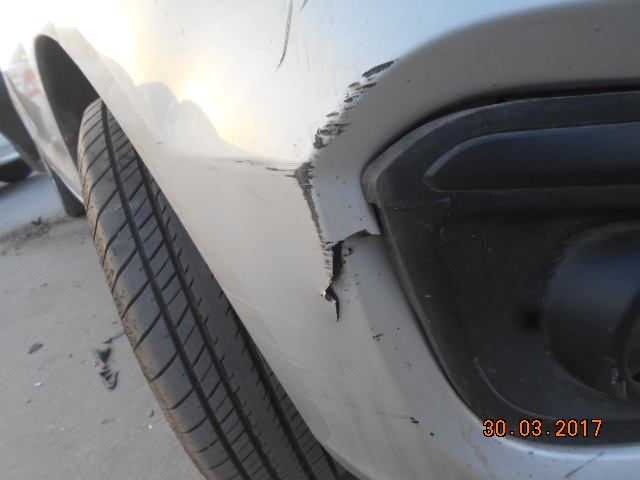Scratch_or_spot: (316, 64, 386, 130), (289, 160, 313, 215)
Tear: (319, 218, 359, 316)
